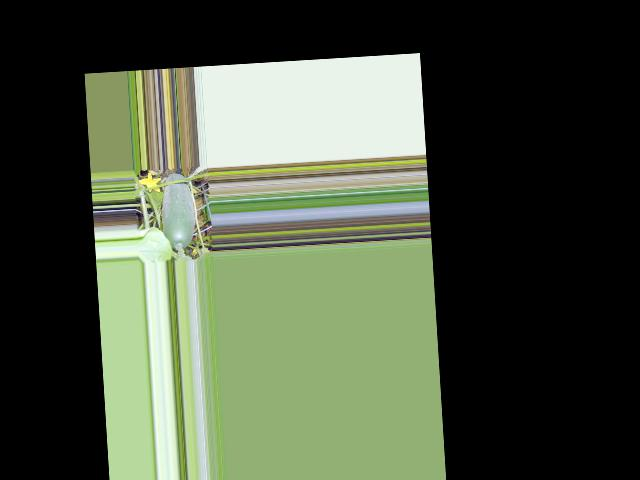cucumber: (159, 173, 196, 251)
